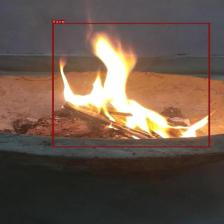fire: (51, 23, 210, 147)
